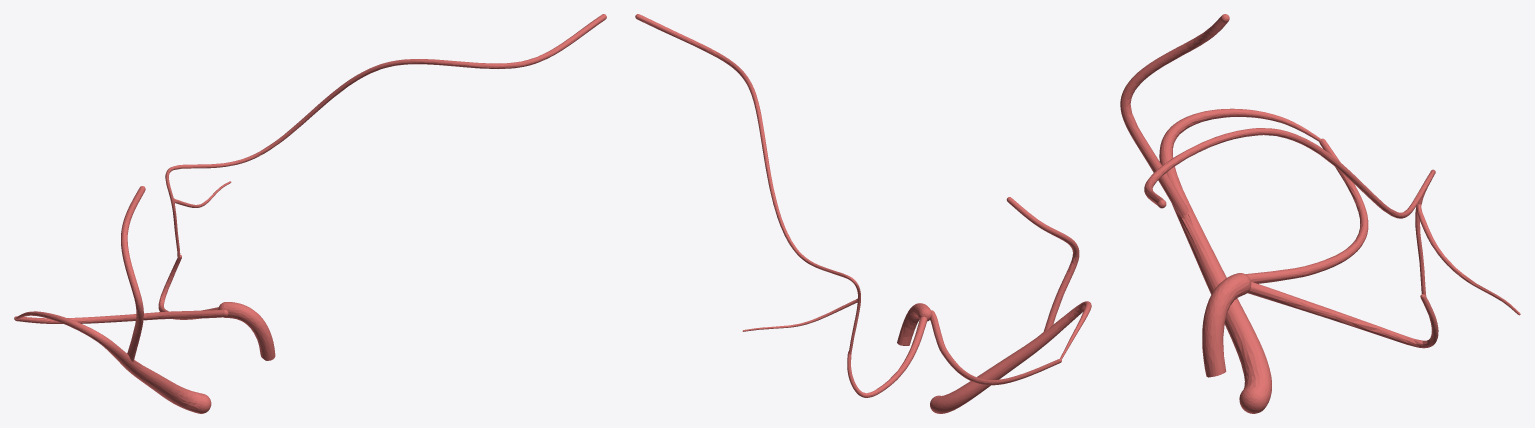
Rendered from shoulder-artery.glb.
3 renders of one model, left to right at view 1: azimuth 30°, elevation 25°; view 2: azimuth 150°, elevation 25°; view 3: azimuth 270°, elevation 25°, orthographic. The views are drawn at different scales.
Visible parts, largest first — view 1: anterior-circumflex-humeral-artery__BP6342, suprascapular-artery__BP6201, posterior-circumflex-humeral-artery__BP6237, subscapular-artery__BP6290; view 2: anterior-circumflex-humeral-artery__BP6342, suprascapular-artery__BP6201, posterior-circumflex-humeral-artery__BP6237, circumflex-scapular-artery__BP6244, subscapular-artery__BP6290; view 3: anterior-circumflex-humeral-artery__BP6342, suprascapular-artery__BP6201, subscapular-artery__BP6290, circumflex-scapular-artery__BP6244, posterior-circumflex-humeral-artery__BP6237.
Part boxes in pixels (x1,y1,x2,y2): anterior-circumflex-humeral-artery__BP6342: (16,186,211,413); suprascapular-artery__BP6201: (165,14,606,259); posterior-circumflex-humeral-artery__BP6237: (14,309,228,323); subscapular-artery__BP6290: (218,302,275,360); anterior-circumflex-humeral-artery__BP6342: (930,197,1091,413); suprascapular-artery__BP6201: (635,14,860,354); posterior-circumflex-humeral-artery__BP6237: (930,310,1061,385); circumflex-scapular-artery__BP6244: (847,316,927,397); subscapular-artery__BP6290: (897,303,931,345); anterior-circumflex-humeral-artery__BP6342: (1120,14,1321,413); suprascapular-artery__BP6201: (1144,128,1520,315); subscapular-artery__BP6290: (1202,273,1251,377); circumflex-scapular-artery__BP6244: (1247,281,1438,348); posterior-circumflex-humeral-artery__BP6237: (1245,138,1368,283).
Bounding box in the file's own units: 1.5 × 0.8927 × 0.6962.
